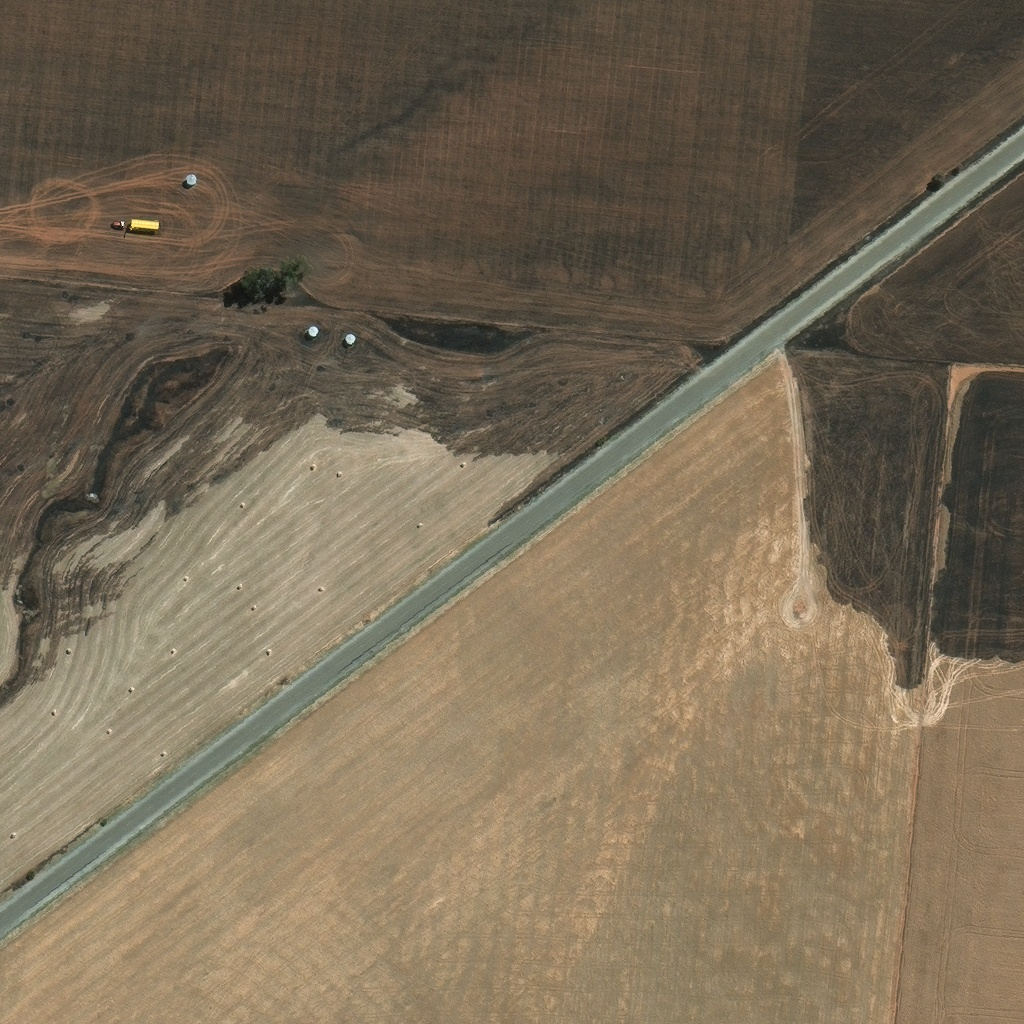0 no-damage: (344, 333, 357, 344), (308, 326, 319, 336)
4 un-classified: (795, 599, 807, 610)
